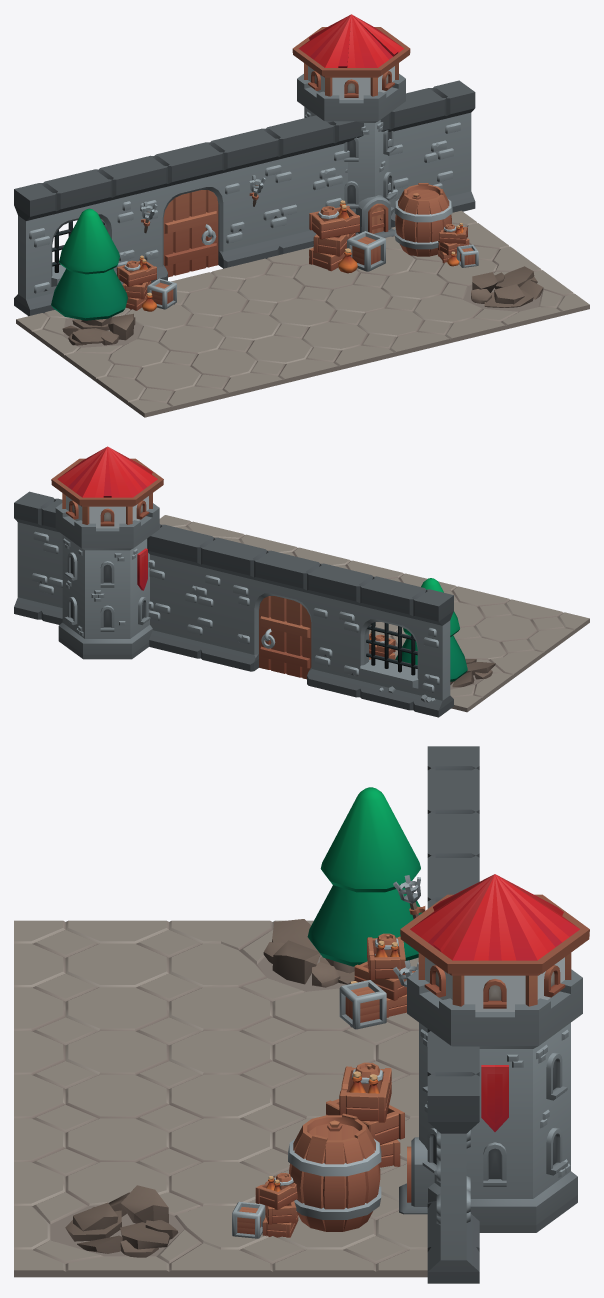
The model's file is gate.glb.
The picture shows the model from 3 angles, top to bottom: view 1: azimuth 30°, elevation 25°; view 2: azimuth 150°, elevation 25°; view 3: azimuth 270°, elevation 25°; orthographic projection. The views are drawn at different scales.
Visible parts, largest first — view 1: static, door; view 2: static, door; view 3: static.
Boxes of the visible parts, x1,y1,x2,y2 form: static: (14, 14, 589, 417); door: (163, 190, 218, 277); static: (14, 446, 589, 717); door: (259, 596, 311, 679); static: (14, 746, 589, 1283).
Size of the model in its own units: 16.5 by 7.35 by 11.14.
Materials: 2 (2 with a texture image).
